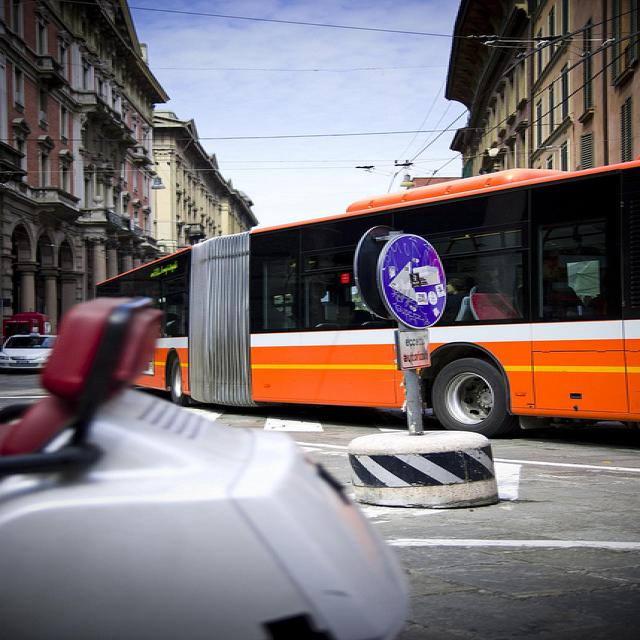Vehicle: (73, 158, 640, 424), (0, 332, 60, 371)
